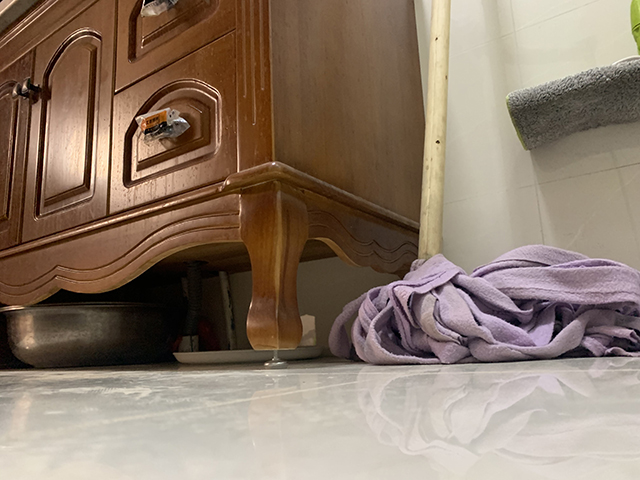cabinet: (1, 1, 429, 370)
